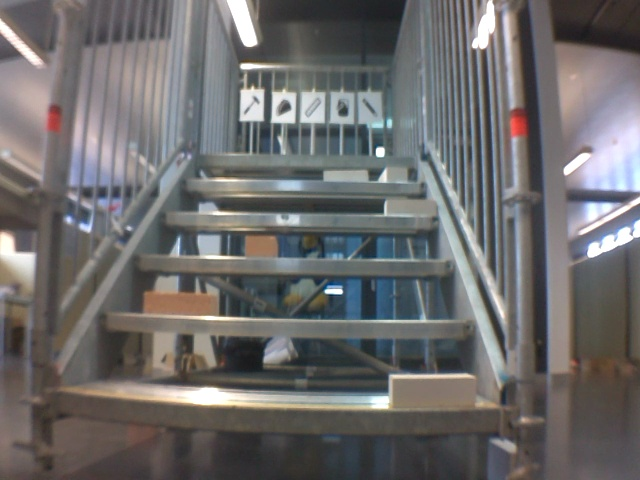brick: (387, 375, 476, 408), (143, 292, 218, 314), (384, 199, 435, 215), (246, 236, 278, 256), (324, 170, 367, 181), (379, 168, 408, 181)
bucket: (332, 97, 352, 119)
edge: (60, 390, 500, 435), (101, 314, 471, 337), (131, 256, 454, 275), (159, 211, 440, 228), (180, 178, 428, 193), (197, 153, 418, 167)
hammer: (241, 92, 261, 119)
pencil: (359, 96, 382, 119)
ruler: (303, 96, 322, 120)
stairs: (23, 1, 543, 478)
steps: (59, 150, 508, 441)
taco: (273, 96, 293, 120)
